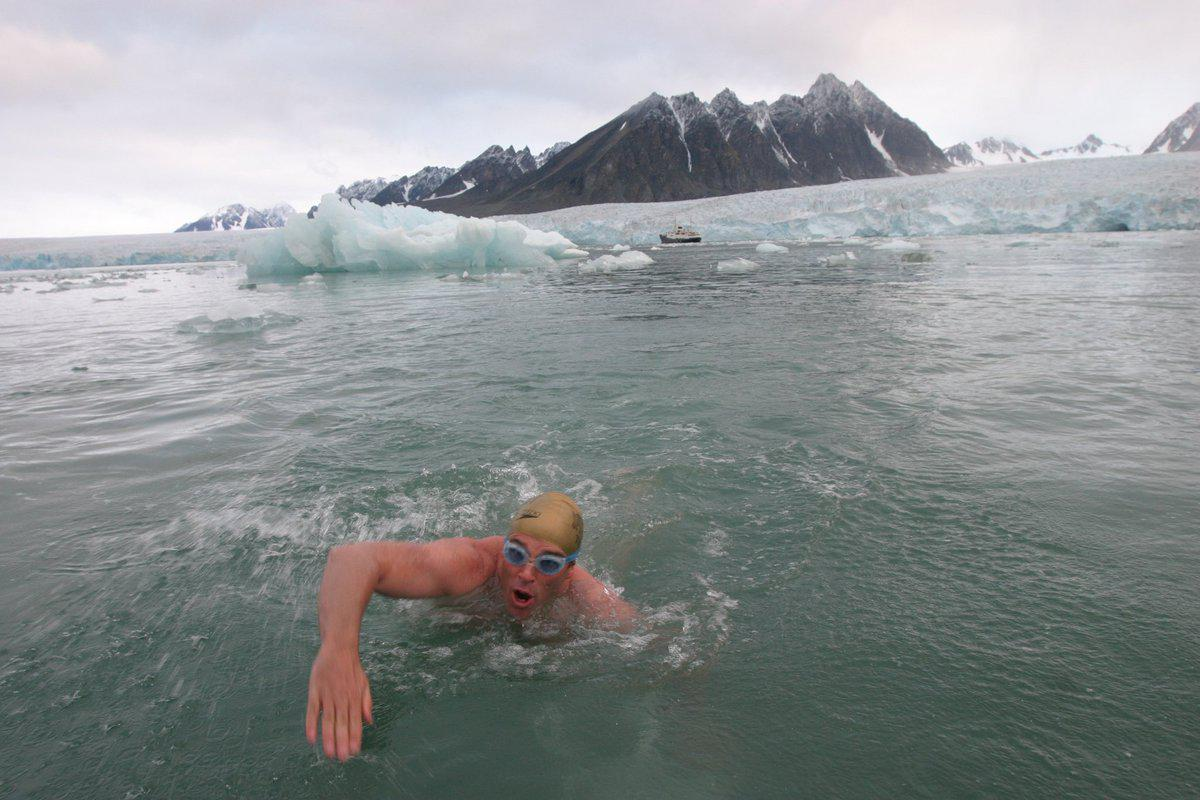swimmer: (296, 489, 649, 763)
